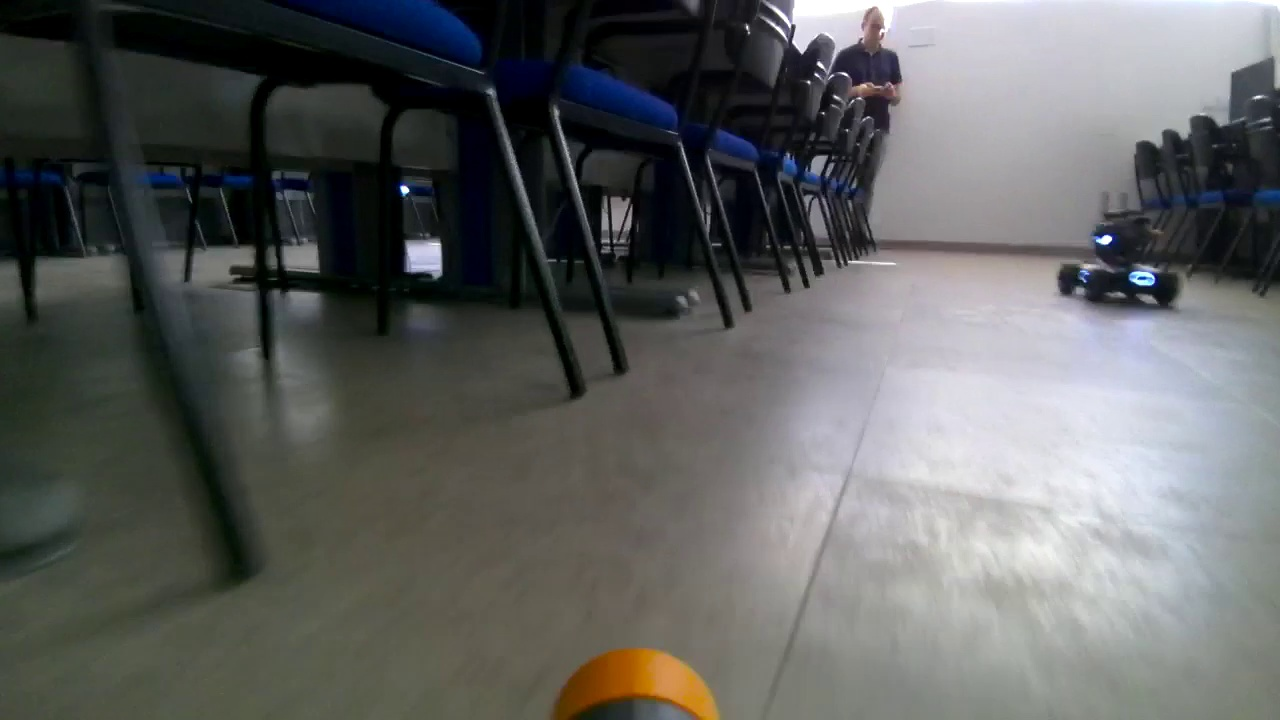robot: (1052, 189, 1189, 313)
